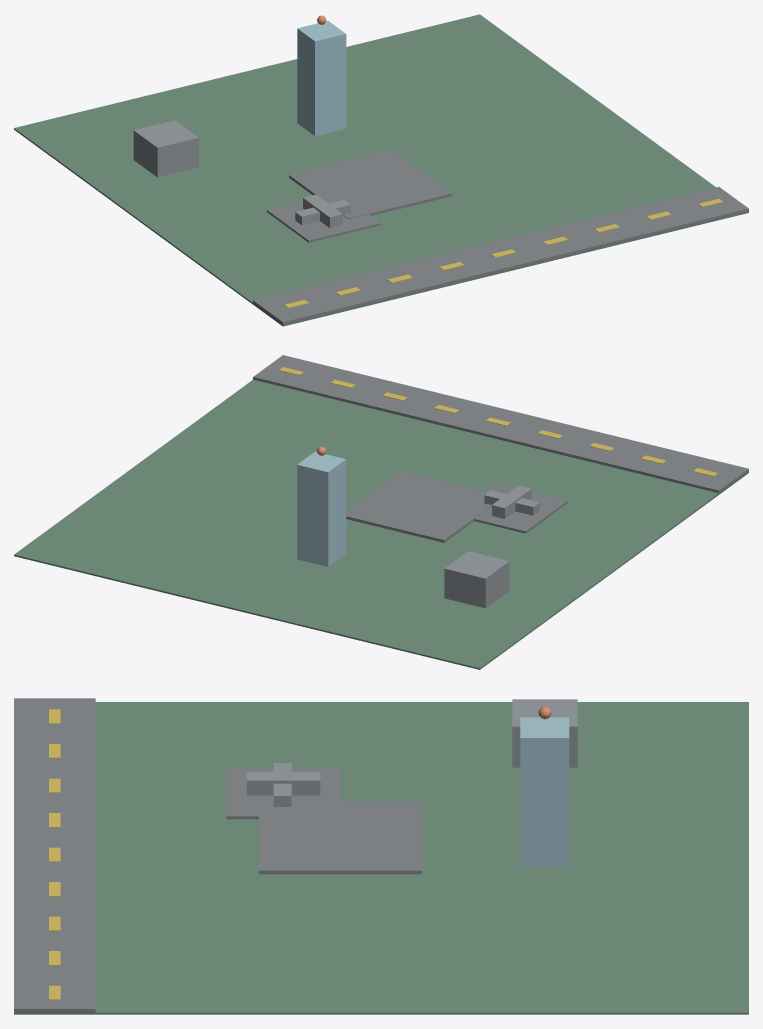
Rendered from stage_04.glb.
3 renders of one model, top to bottom at view 1: azimuth 30°, elevation 25°; view 2: azimuth 150°, elevation 25°; view 3: azimuth 270°, elevation 25°, orthographic. The views are drawn at different scales.
Visible parts, largest first — view 1: geometry_0; view 2: geometry_0; view 3: geometry_0.
Boxes of the visible parts, x1,y1,x2,y2 form: geometry_0: (14,14,748,326); geometry_0: (14,355,748,669); geometry_0: (14,698,748,1014).
Size of the model in its own units: 9 by 2.06 by 9.
